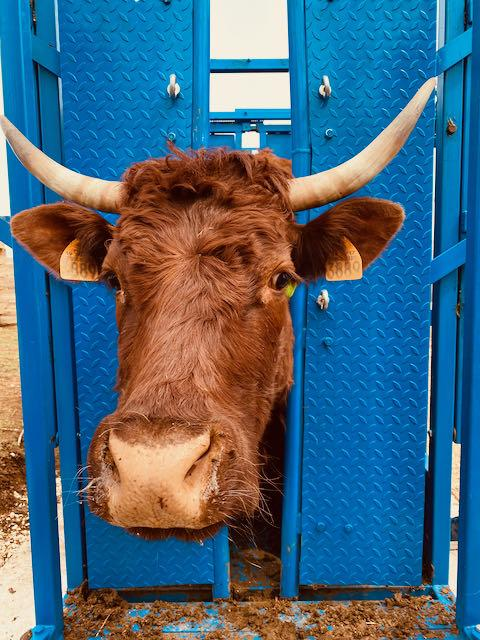muzzles: (74, 419, 266, 546)
